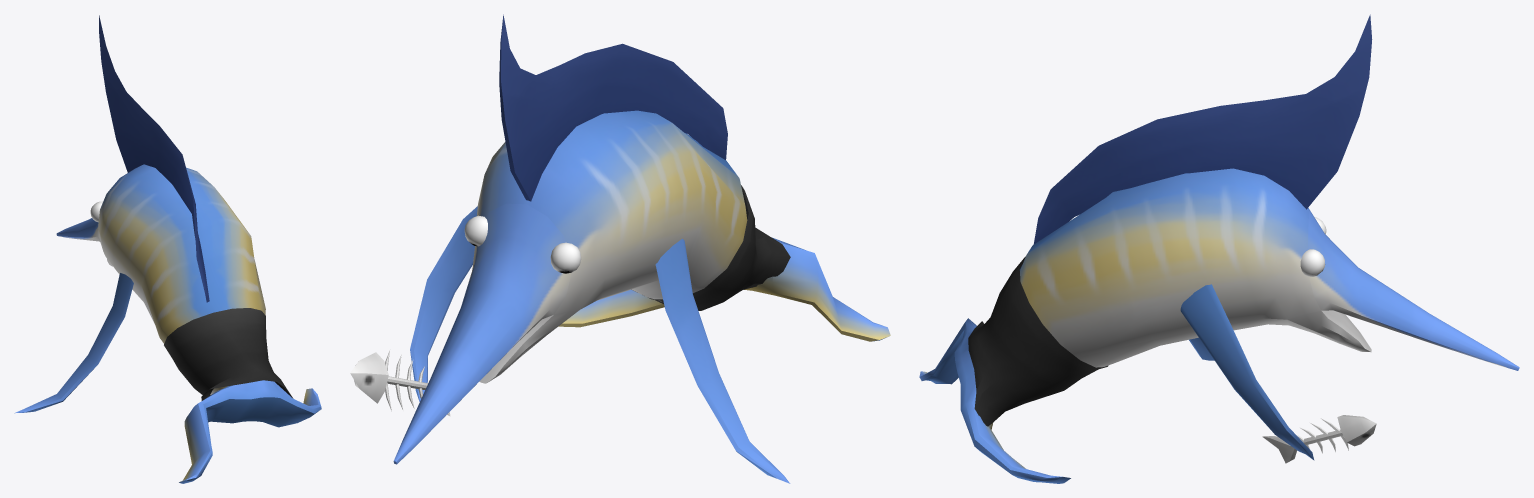
The model's file is kajiki_fix_05.fbx.
3 views of the same model, side by side, from view 1: azimuth 30°, elevation 25°; view 2: azimuth 150°, elevation 25°; view 3: azimuth 270°, elevation 25° (orthographic). The views are drawn at different scales.
Parts seen in each view (by area): view 1: F_05; view 2: F_05; view 3: F_05.
Part boxes in pixels (x1,y1,x2,y2): F_05: (14, 15, 321, 483); F_05: (350, 14, 890, 483); F_05: (919, 14, 1519, 483).
Size of the model in its own units: 1.57 by 2 by 2.58.
Materials: 2 (2 with a texture image).
